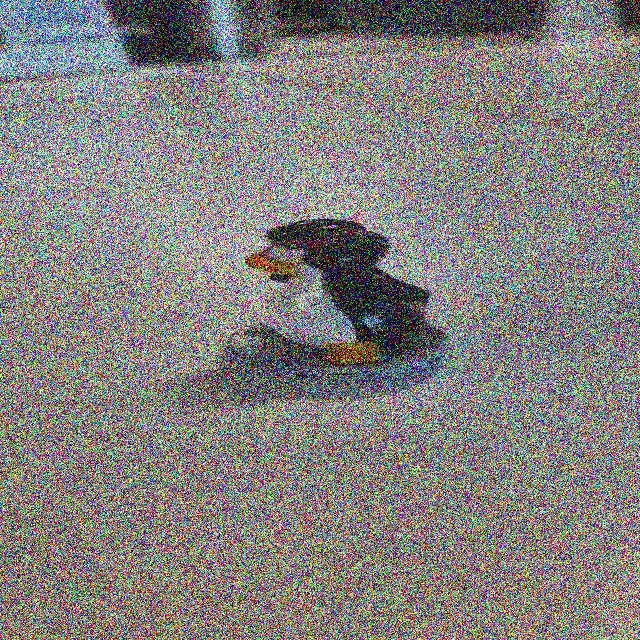Penguin: (119, 204, 453, 412)
